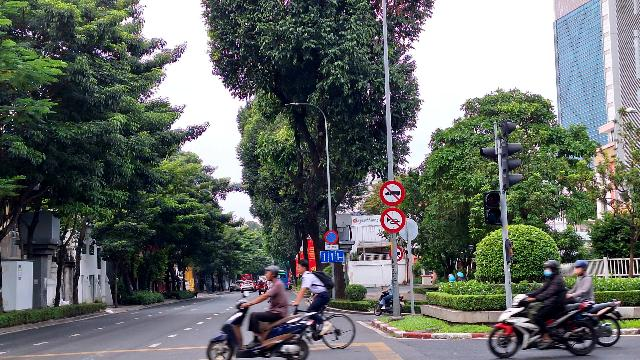cam-bop-coi: (380, 207, 406, 234)
cam-do-xe: (324, 230, 338, 244)
